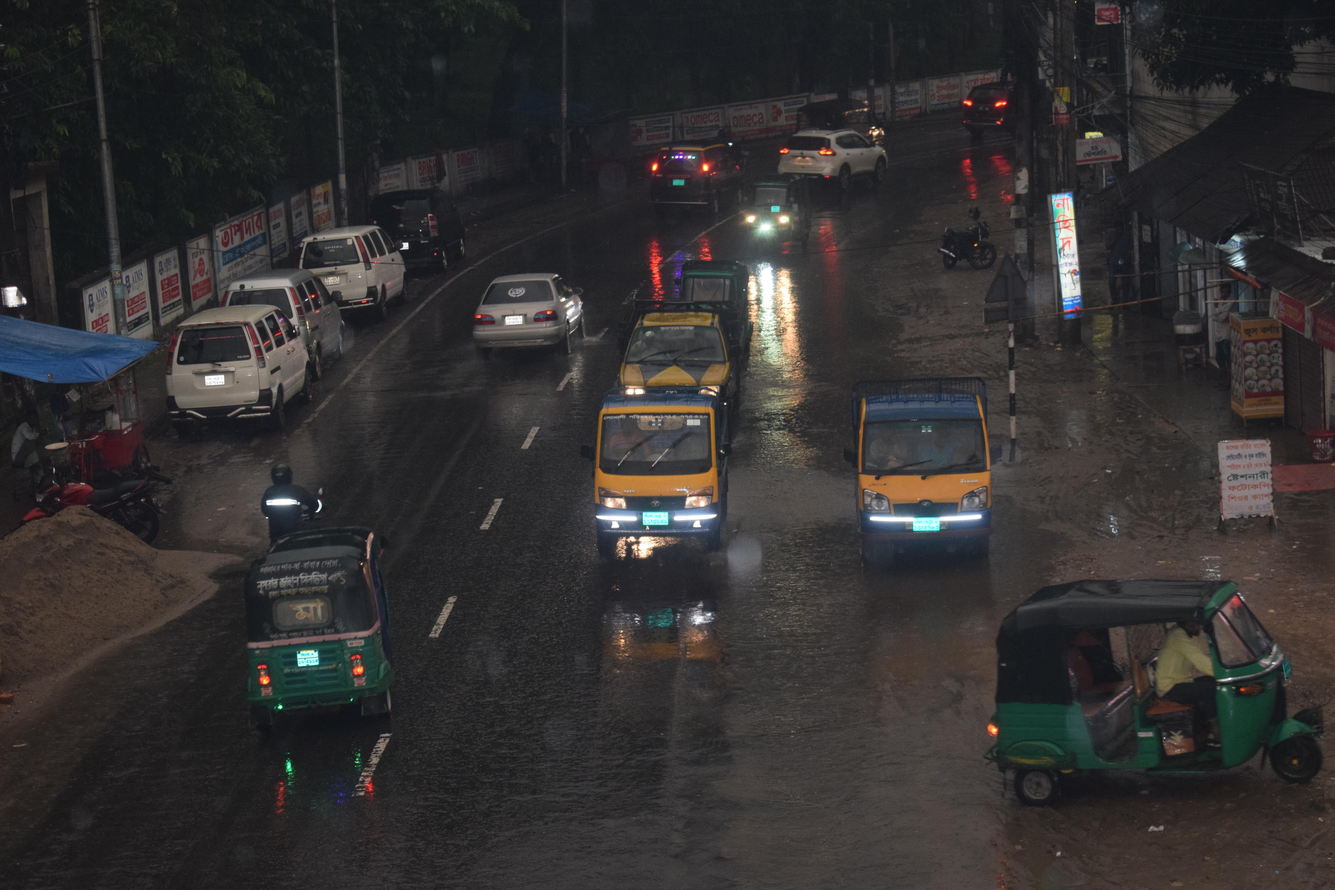Bike: (0, 457, 193, 549)
Car: (156, 288, 321, 457), (624, 122, 791, 246), (444, 261, 613, 381), (216, 256, 370, 377), (763, 108, 915, 217), (289, 204, 424, 325), (353, 178, 499, 279)
Truck: (802, 349, 1033, 595), (556, 363, 776, 617), (583, 278, 766, 456)
